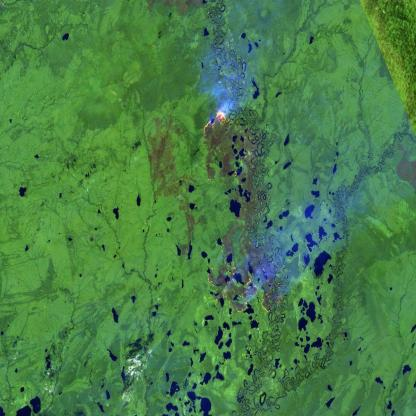fire: (197, 274, 285, 318), (200, 112, 238, 136)
